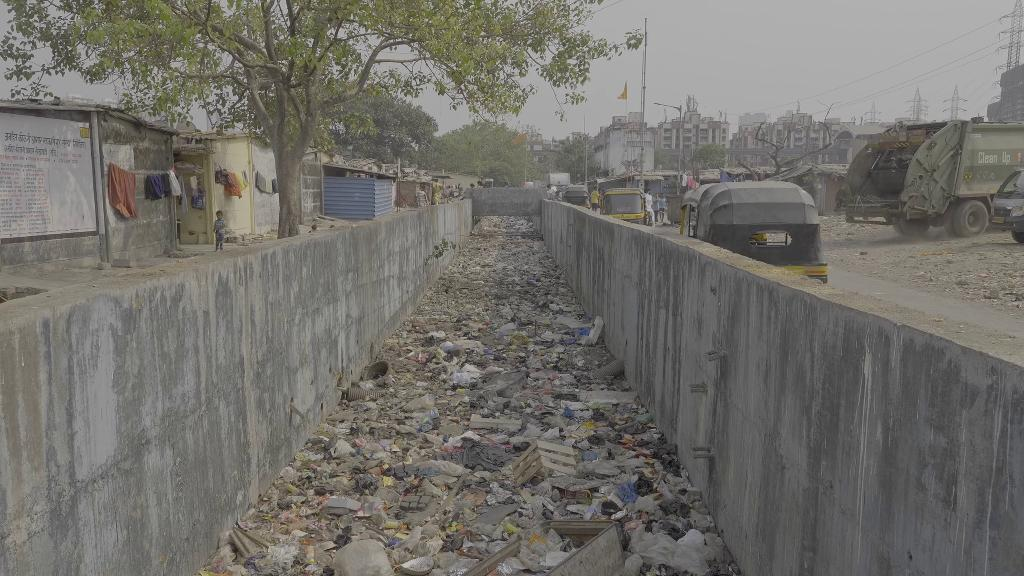garbage: (632, 523, 713, 572), (518, 531, 566, 565), (416, 458, 468, 477), (451, 364, 482, 392), (661, 498, 693, 519), (627, 494, 656, 517), (400, 555, 435, 574), (645, 439, 678, 458), (329, 438, 356, 461), (353, 472, 381, 492), (406, 394, 437, 412), (617, 482, 638, 503), (634, 475, 653, 498), (301, 540, 316, 567), (583, 499, 602, 520), (540, 426, 562, 443), (411, 410, 439, 421)
